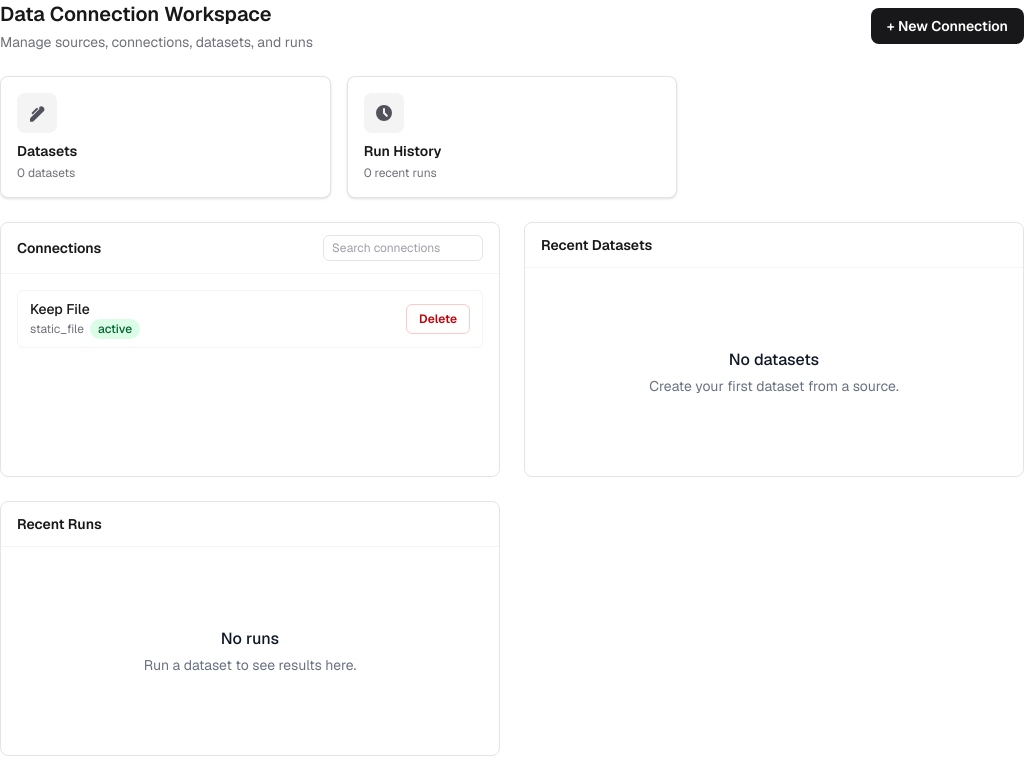
Scenario: Connections home › cancels delete when dialog is dismissed
Expected: the text "Keep File" is shown, 30,300 -> 90,318
Click the button "Delete".
click(438, 319)  # box 406,304 -> 470,334
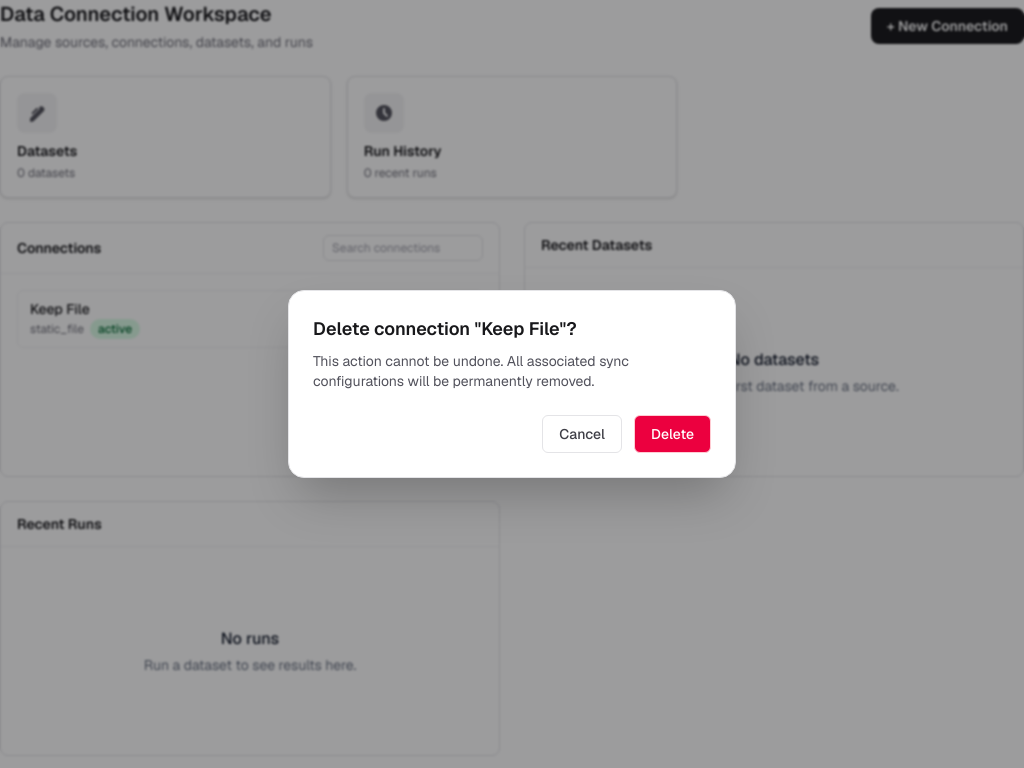
Now the heading "Delete connection \"Keep File\"?" is shown, box 313,317 -> 577,340
Click cancel
Click the button "Cancel".
click(582, 434)  # box 542,415 -> 622,453
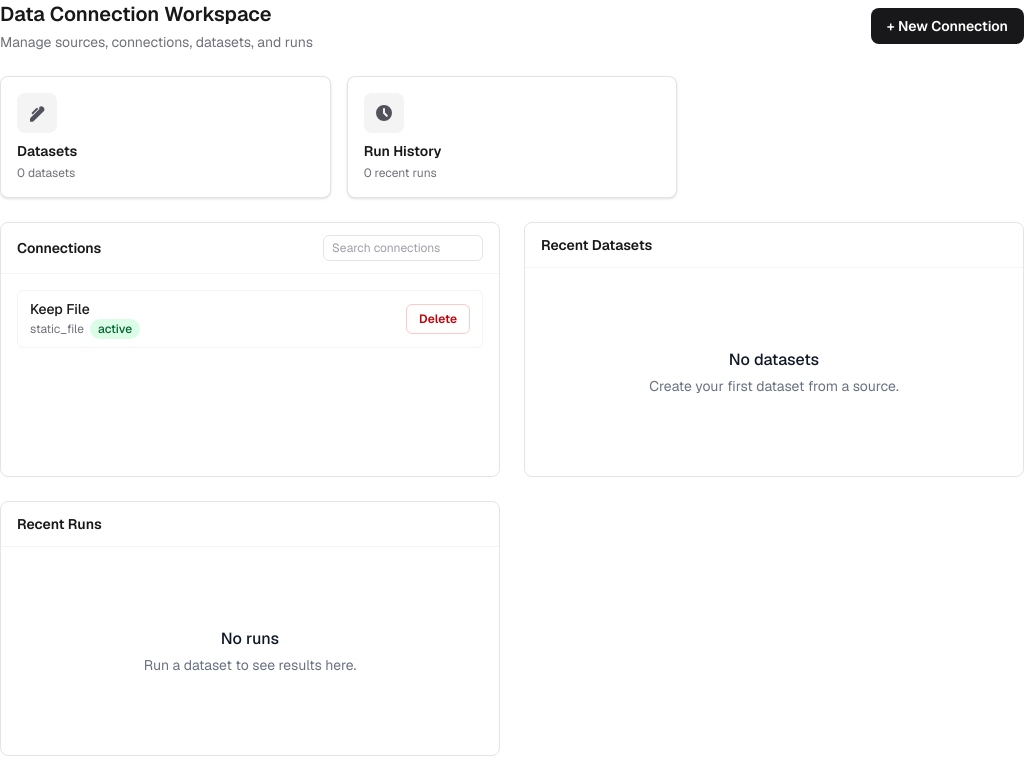
Now the dialog is gone
